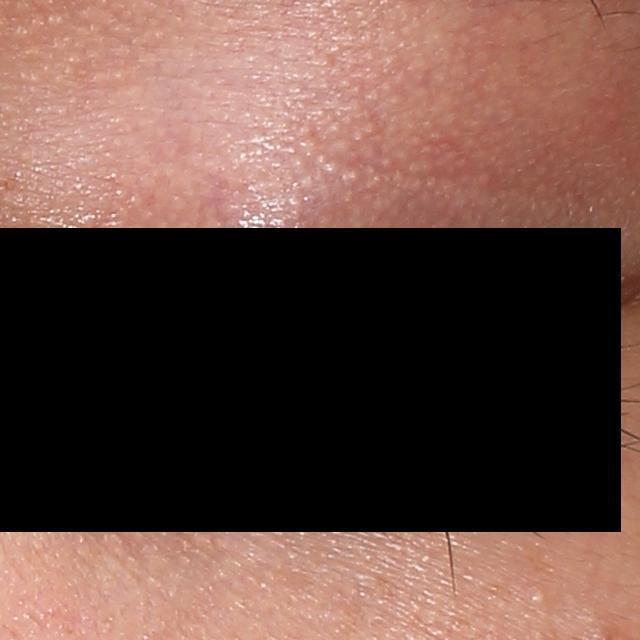comedo: (528, 588, 549, 606)
